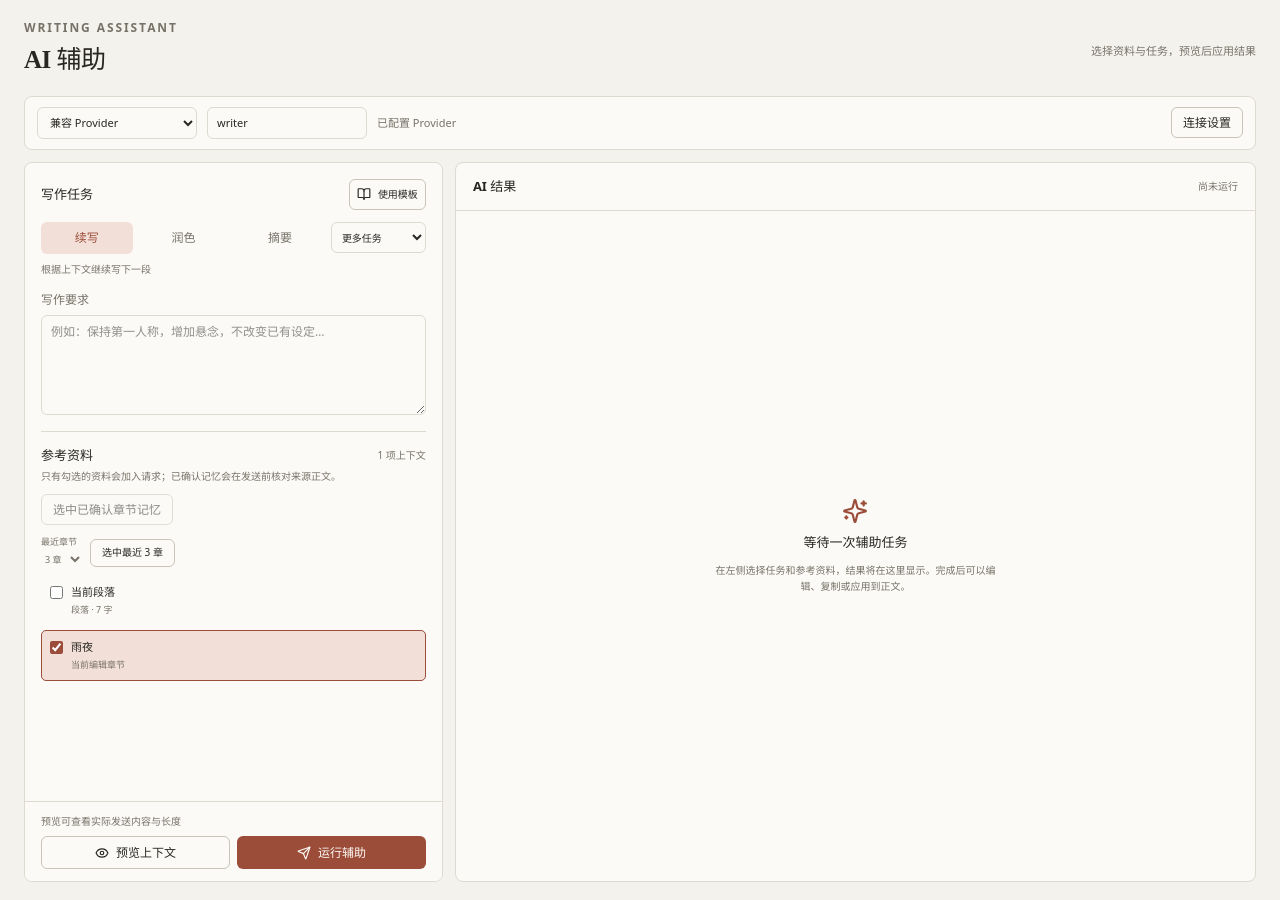
Scenario: shows an empty-output failure and retries only on explicit request with a larger budget
Click the button "运行辅助".
click(331, 852)  # box [237,836,426,869]
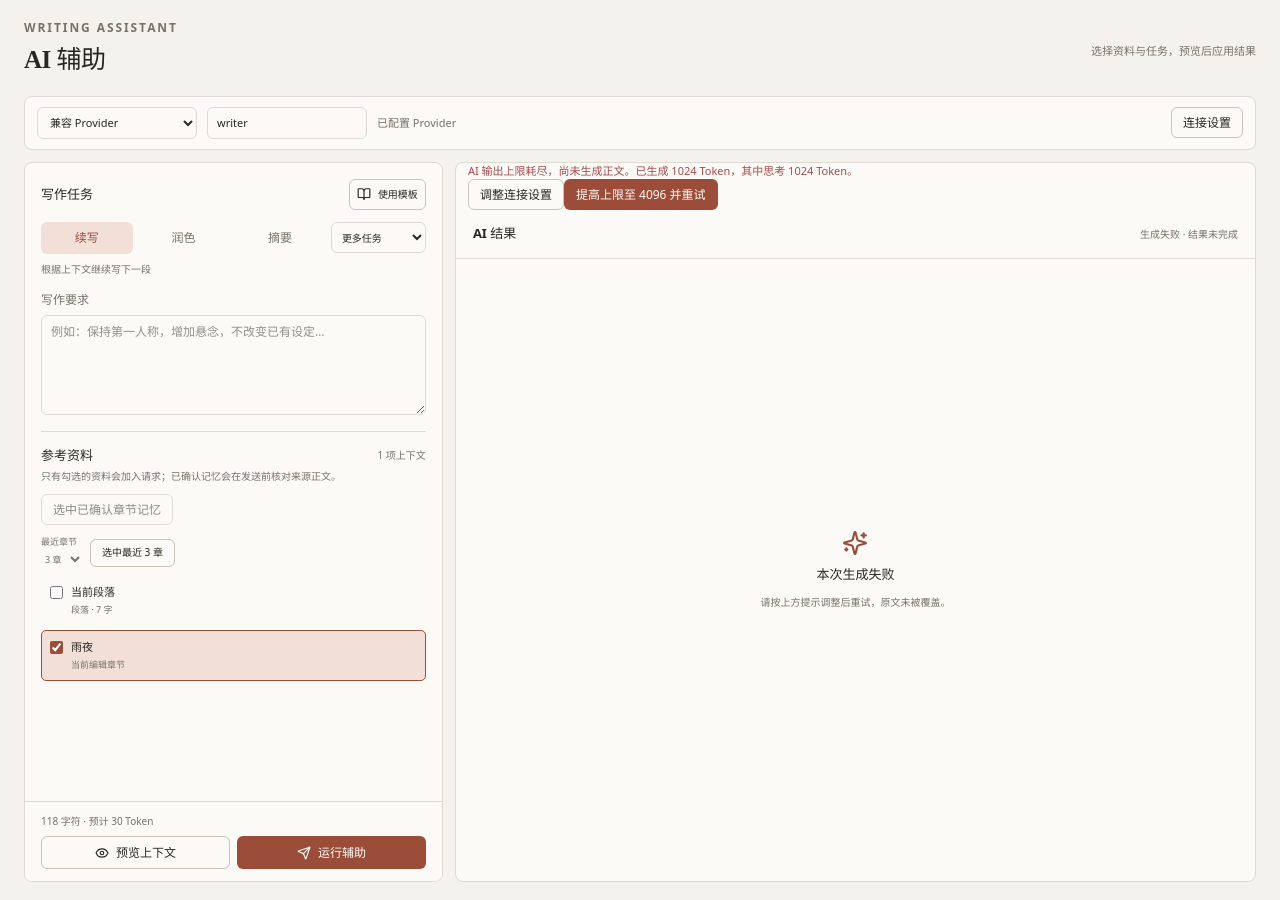
Result: the text "本次生成失败" is shown at [816,565,894,585]
Result: the text "尚未运行" is gone
Result: the message "AI 输出上限耗尽，尚未生成正文。已生成 1024 Token，其中思考 1024 Token。 调整连接设置 提高上限至 4096 并重试" is shown at [468,163,858,210]
Click the button "提高上限至 4096 并重试".
click(641, 195)  # box [564,179,718,210]
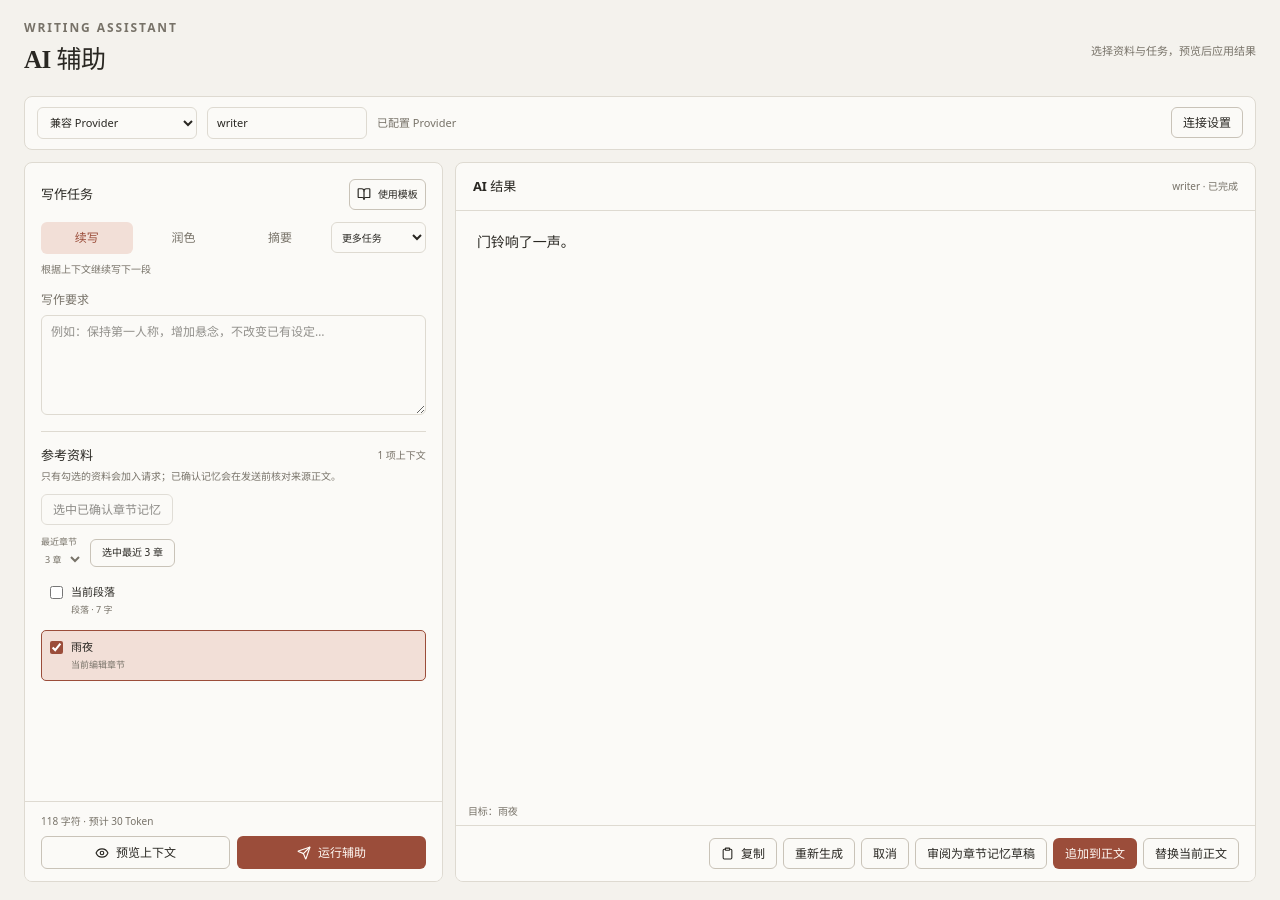
Result: the text box showing "门铃响了一声。" is shown at [456,211,1255,798]
